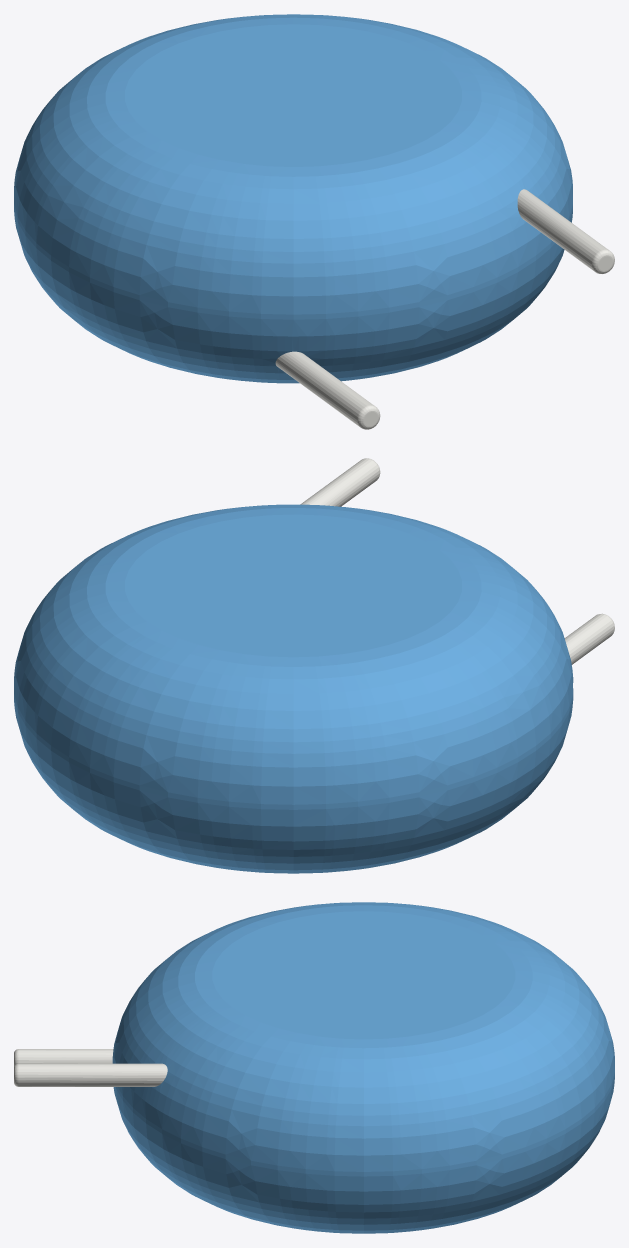
Rendered from RV_Disc_D15.5mm_W6.3mm_P7.5mm.glb.
The picture shows the model from 3 angles, top to bottom: view 1: azimuth 30°, elevation 25°; view 2: azimuth 150°, elevation 25°; view 3: azimuth 270°, elevation 25°; orthographic projection. The views are drawn at different scales.
Parts seen in each view (by area): view 1: Shape_IndexedFaceSet.001, Shape_IndexedFaceSet.003, Shape_IndexedFaceSet.002, Shape_IndexedFaceSet, Shape_IndexedFaceSet.006, Shape_IndexedFaceSet.004; view 2: Shape_IndexedFaceSet.001, Shape_IndexedFaceSet.003, Shape_IndexedFaceSet.002, Shape_IndexedFaceSet, Shape_IndexedFaceSet.004, Shape_IndexedFaceSet.006; view 3: Shape_IndexedFaceSet.001, Shape_IndexedFaceSet.003, Shape_IndexedFaceSet.002, Shape_IndexedFaceSet.004, Shape_IndexedFaceSet, Shape_IndexedFaceSet.006.
Boxes of the visible parts, left/top/right/bottom form: Shape_IndexedFaceSet.001: left=14, top=14, right=572, bottom=314; Shape_IndexedFaceSet.003: left=125, top=24, right=461, bottom=166; Shape_IndexedFaceSet.002: left=14, top=209, right=572, bottom=383; Shape_IndexedFaceSet: left=14, top=204, right=572, bottom=319; Shape_IndexedFaceSet.006: left=275, top=351, right=374, bottom=426; Shape_IndexedFaceSet.004: left=517, top=189, right=608, bottom=270; Shape_IndexedFaceSet.001: left=14, top=504, right=573, bottom=804; Shape_IndexedFaceSet.003: left=125, top=514, right=461, bottom=657; Shape_IndexedFaceSet.002: left=14, top=688, right=573, bottom=873; Shape_IndexedFaceSet: left=14, top=694, right=572, bottom=809; Shape_IndexedFaceSet.004: left=300, top=458, right=379, bottom=506; Shape_IndexedFaceSet.006: left=564, top=614, right=614, bottom=664; Shape_IndexedFaceSet.001: left=112, top=902, right=614, bottom=1171; Shape_IndexedFaceSet.003: left=212, top=911, right=515, bottom=1039; Shape_IndexedFaceSet.002: left=113, top=1077, right=614, bottom=1233; Shape_IndexedFaceSet.004: left=18, top=1063, right=167, bottom=1086; Shape_IndexedFaceSet: left=115, top=1072, right=614, bottom=1176; Shape_IndexedFaceSet.006: left=18, top=1049, right=113, bottom=1063.
Size of the model in its own units: 6.1 by 2.48 by 7.29.
